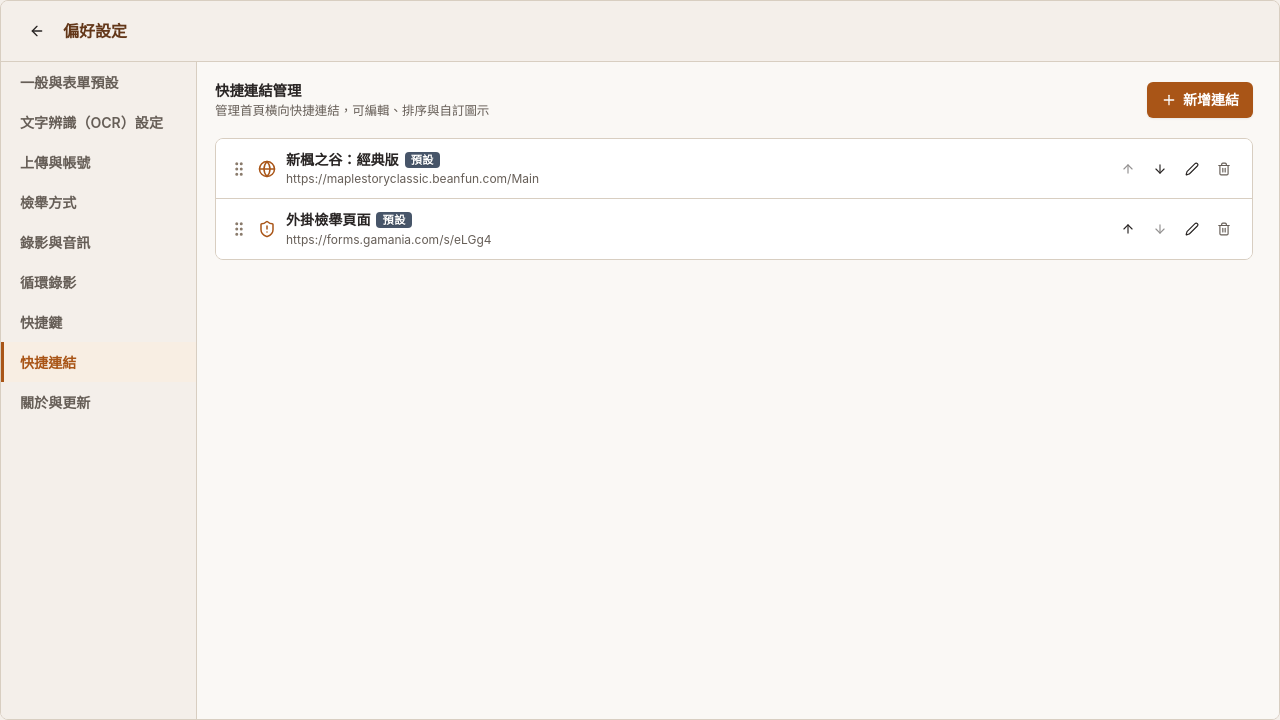
it: SettingsView backend state › rejects an unsafe quick-link URL before persisting it
Click the button "新增連結": (1200,100) [1147,82,1253,118]
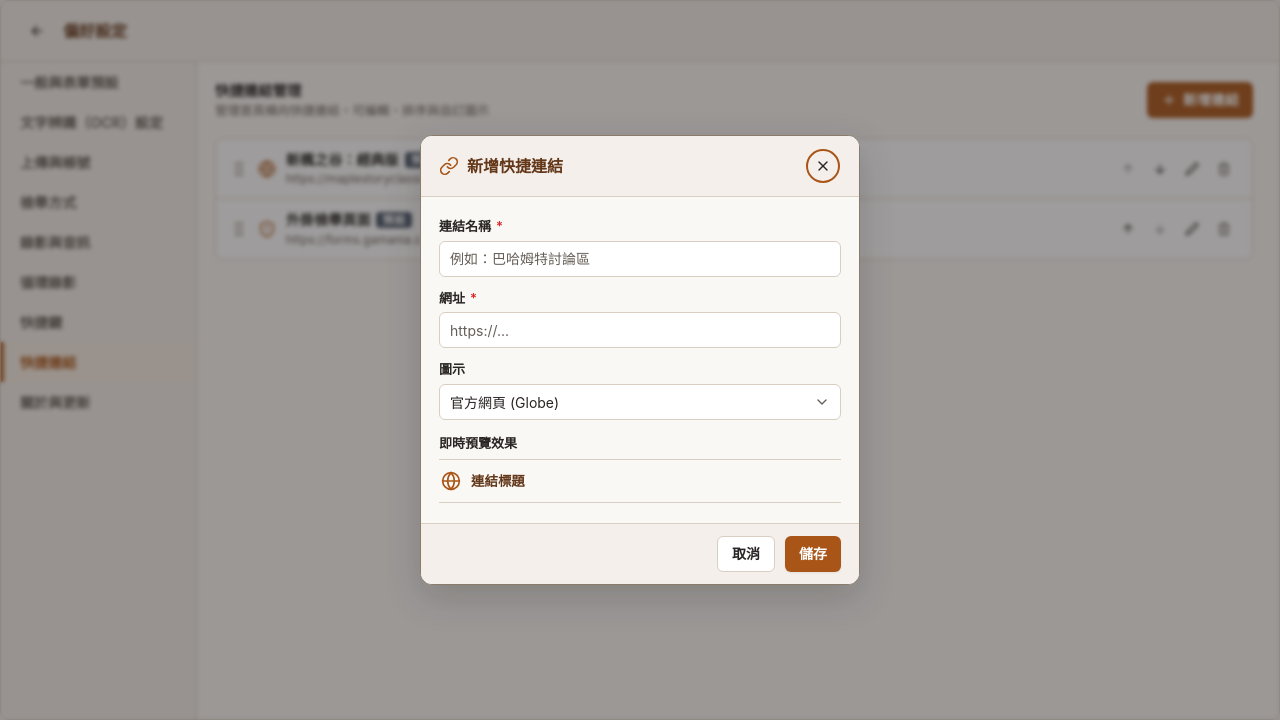
In the field with placeholder "例如：巴哈姆特討論區": (640,258) [440,242,840,276], type "Unsafe"
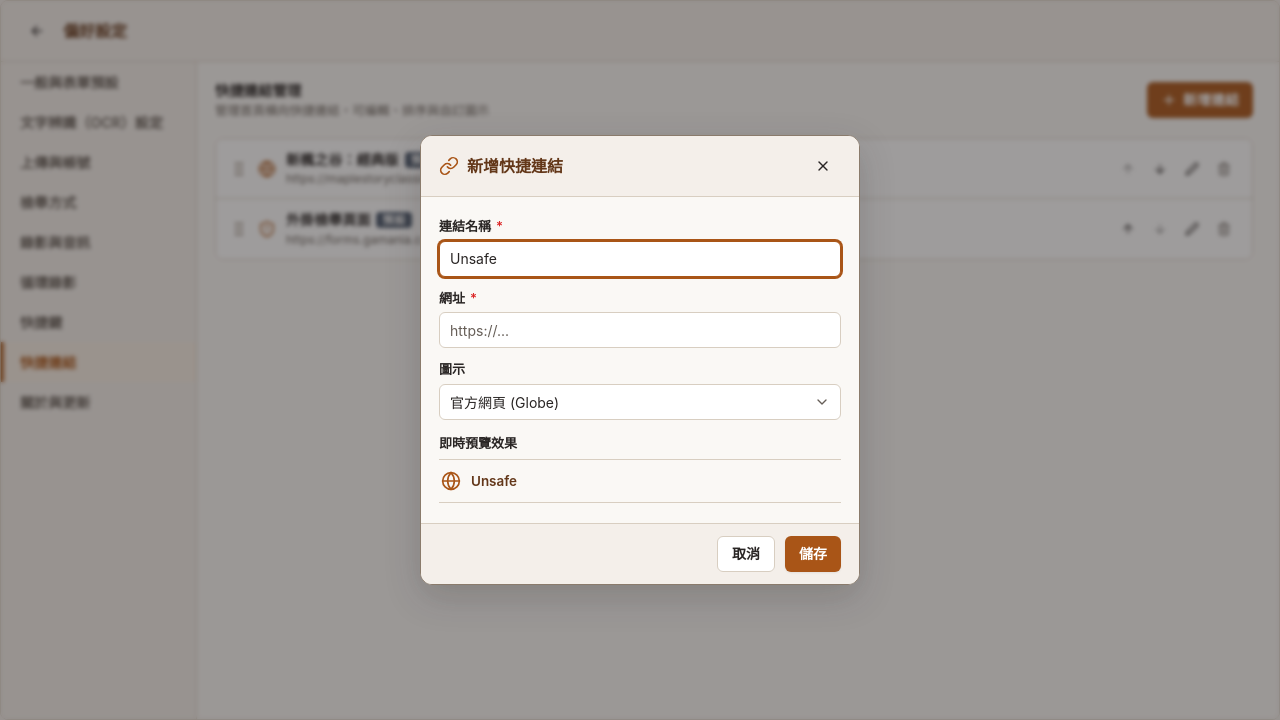
In the field with placeholder "https://...": (640,330) [440,313,840,347], type "javascript:alert(1)"
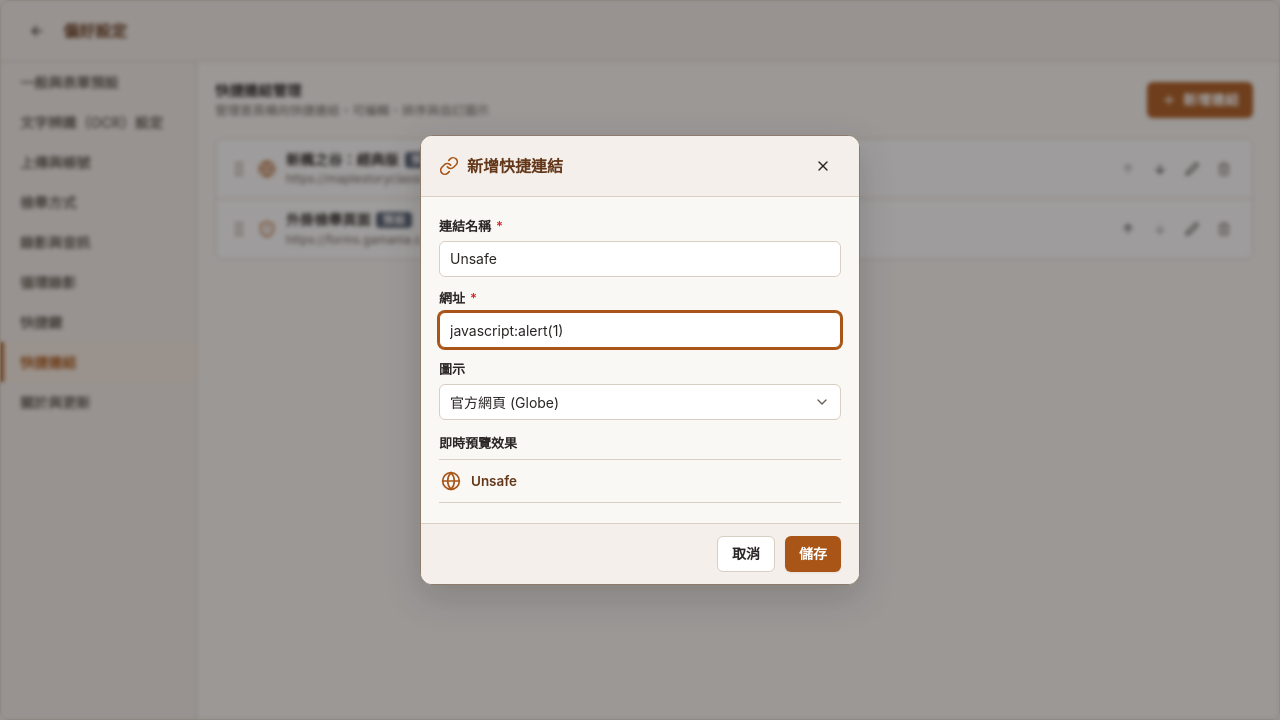
Click the button "儲存": (813,554) [785,536,841,572]
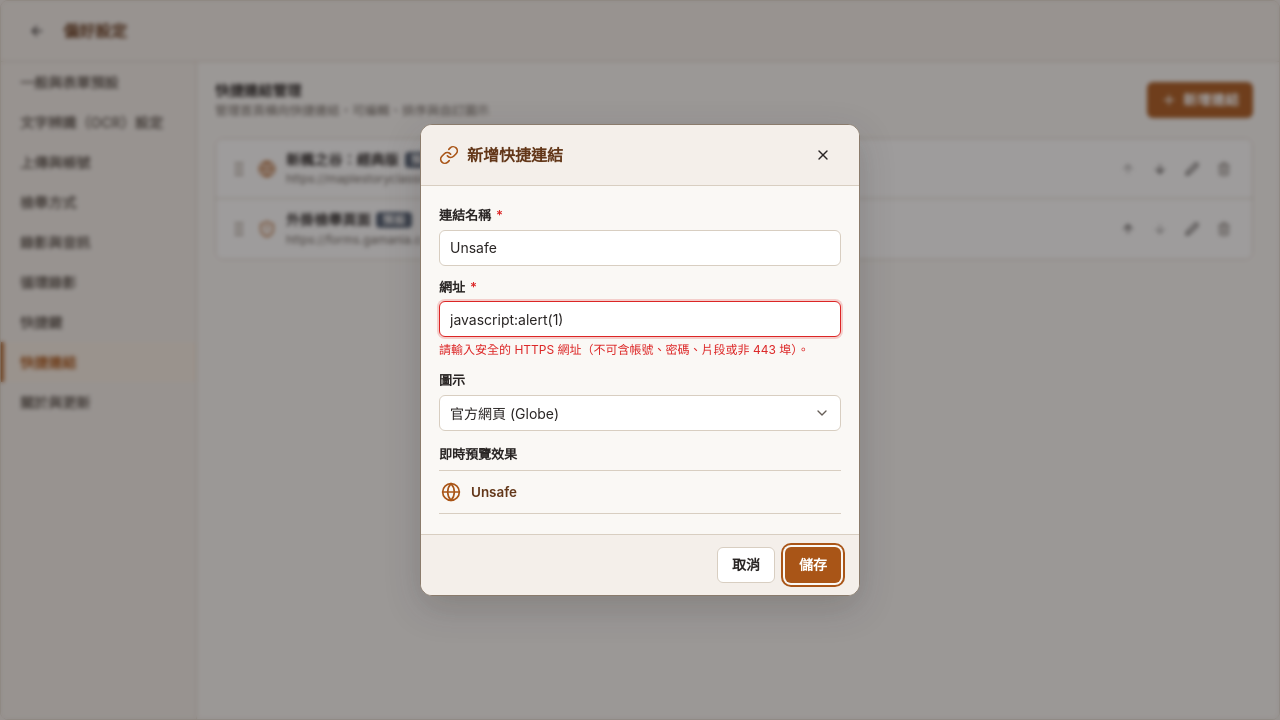
Now the text "請輸入安全的 HTTPS 網址（不可含帳號、密碼、片段或非 443 埠）。" is shown, box [439,341,841,359]
